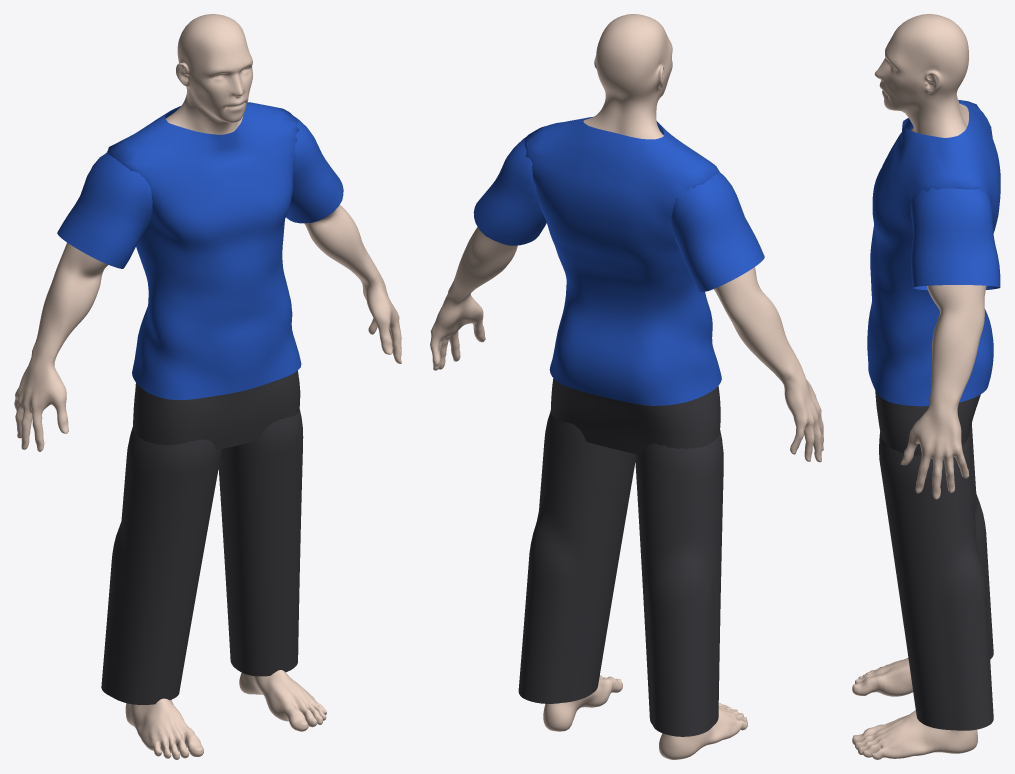
File: dressed.glb
3 renders of one model, left to right at view 1: azimuth 30°, elevation 25°; view 2: azimuth 150°, elevation 25°; view 3: azimuth 270°, elevation 25°, orthographic.
Parts seen in each view (by area): view 1: garment.tshirt, garment.pants, human; view 2: garment.pants, garment.tshirt, human; view 3: garment.tshirt, garment.pants, human.
Part boxes in pixels (bbox=[...]): garment.tshirt: bbox=[57, 102, 343, 399]; garment.pants: bbox=[101, 371, 303, 704]; human: bbox=[14, 14, 401, 759]; garment.pants: bbox=[518, 378, 723, 736]; garment.tshirt: bbox=[473, 116, 764, 405]; human: bbox=[430, 14, 823, 759]; garment.tshirt: bbox=[867, 100, 1000, 406]; garment.pants: bbox=[875, 391, 993, 730]; human: bbox=[852, 14, 986, 759].
Bounding box in the file's own units: 1.01 × 1.8 × 0.3447.
Materials: 3 (2 with a texture image).
